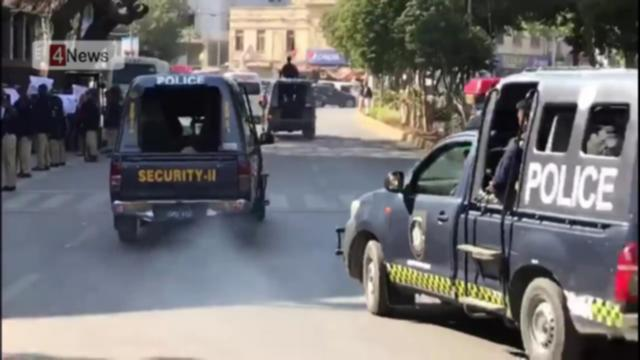police_car: (340, 67, 640, 360), (107, 69, 268, 248)
